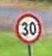limite 30: (13, 11, 42, 44)
